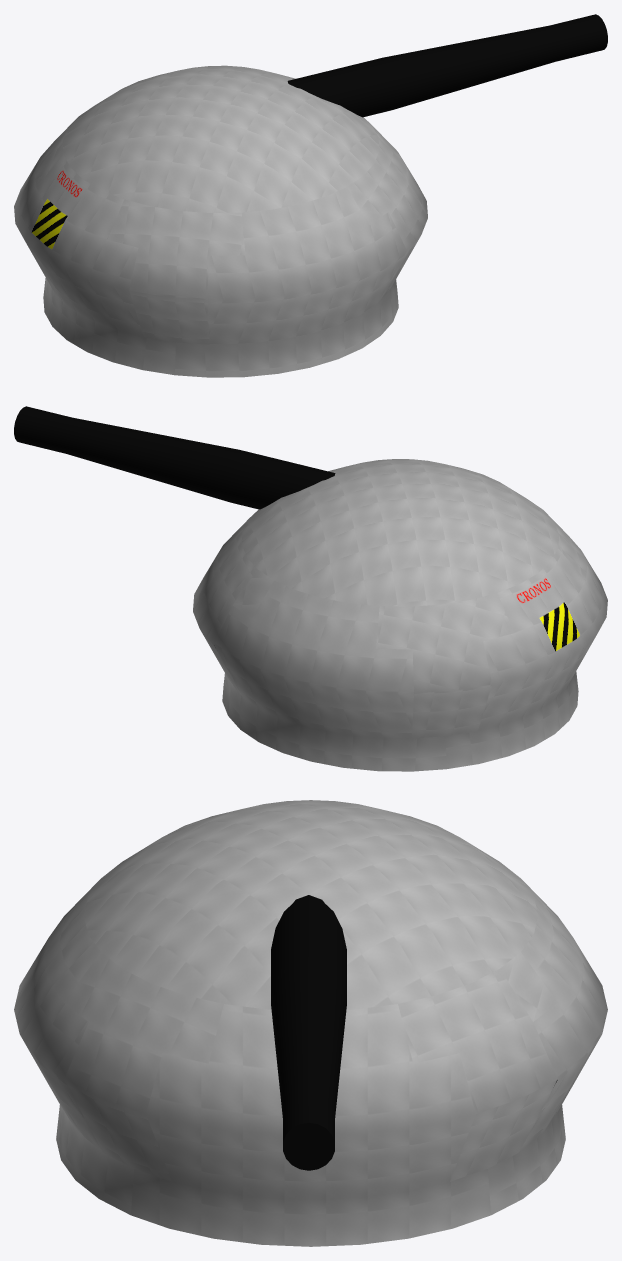
File: turret2.FBX
3 views of the same model, one above another, from view 1: azimuth 30°, elevation 25°; view 2: azimuth 150°, elevation 25°; view 3: azimuth 270°, elevation 25° (orthographic). The views are drawn at different scales.
Visible parts, largest first — view 1: Cylinder001, turret1; view 2: Cylinder001, turret1; view 3: Cylinder001, turret1.
Boxes of the visible parts, left/top/right/bottom form: Cylinder001: left=14, top=65, right=427, bottom=377; turret1: left=287, top=14, right=607, bottom=117; Cylinder001: left=193, top=459, right=607, bottom=771; turret1: left=14, top=406, right=335, bottom=509; Cylinder001: left=14, top=800, right=607, bottom=1246; turret1: left=271, top=895, right=346, bottom=1170.
Bounding box in the file's own units: 49.74 × 32.11 × 18.44.
1 material, 1 textured.
